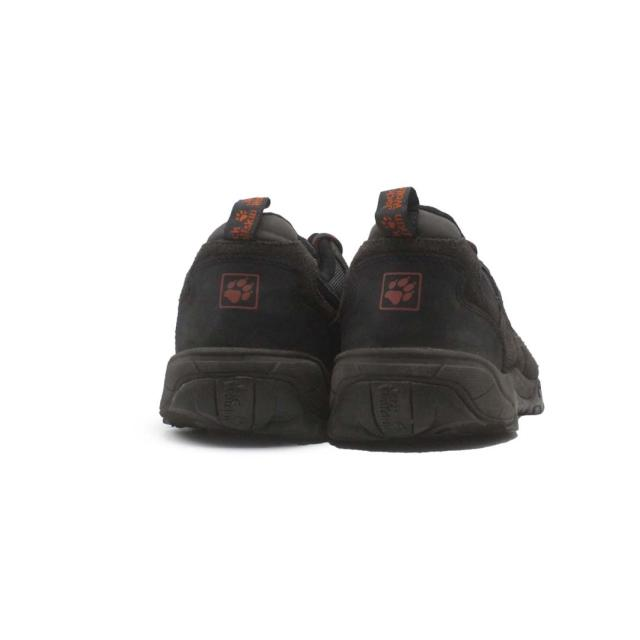heel: (334, 195, 498, 356), (173, 200, 331, 356)
midsole: (331, 366, 537, 447), (156, 352, 323, 430)
